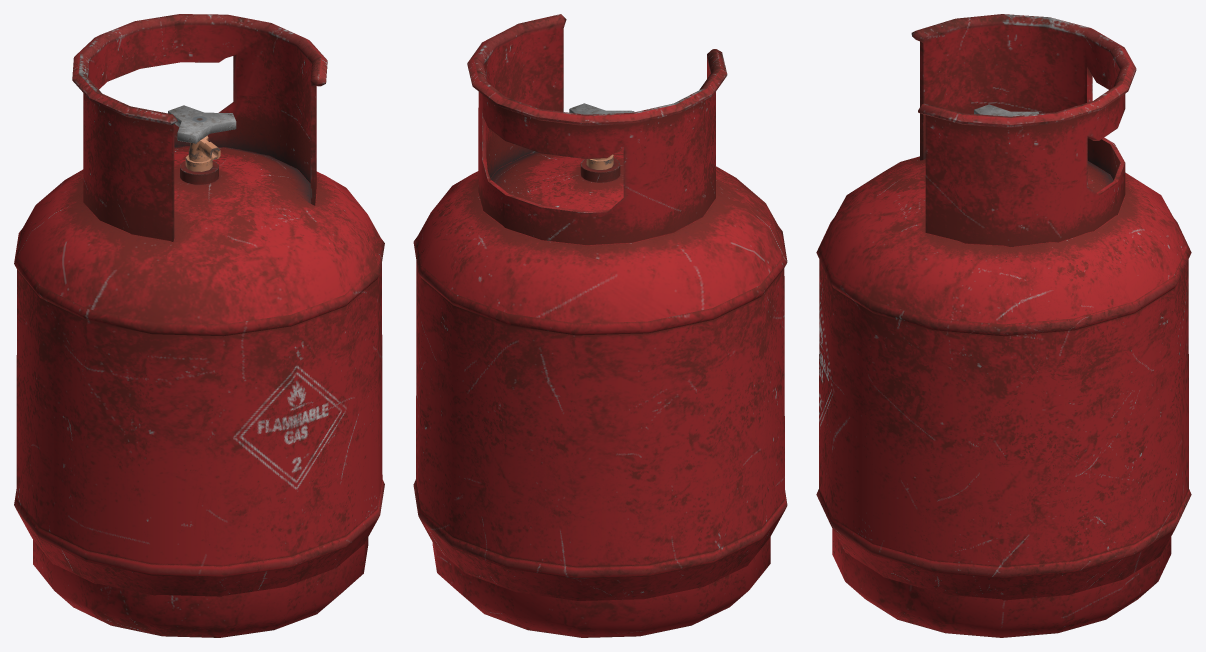
The model's file is GasBallone01_2.FBX.
The picture shows the model from 3 angles, left to right: view 1: azimuth 30°, elevation 25°; view 2: azimuth 150°, elevation 25°; view 3: azimuth 270°, elevation 25°; orthographic projection.
Visible parts, largest first — view 1: GasBallone01_2; view 2: GasBallone01_2; view 3: GasBallone01_2.
Boxes of the visible parts, left/top/right/bottom form: GasBallone01_2: left=14, top=14, right=384, bottom=637; GasBallone01_2: left=413, top=14, right=787, bottom=637; GasBallone01_2: left=816, top=14, right=1191, bottom=637.
Bounding box in the file's own units: 49.35 × 74.07 × 49.35.
